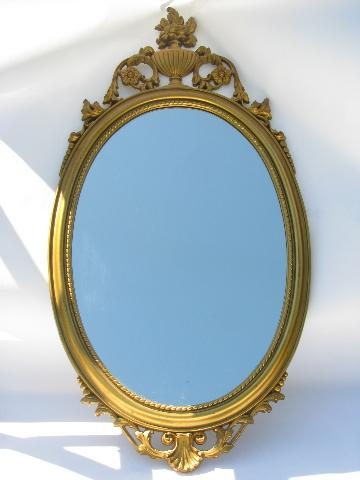Nonrec_Glass: (24, 10, 319, 473)
